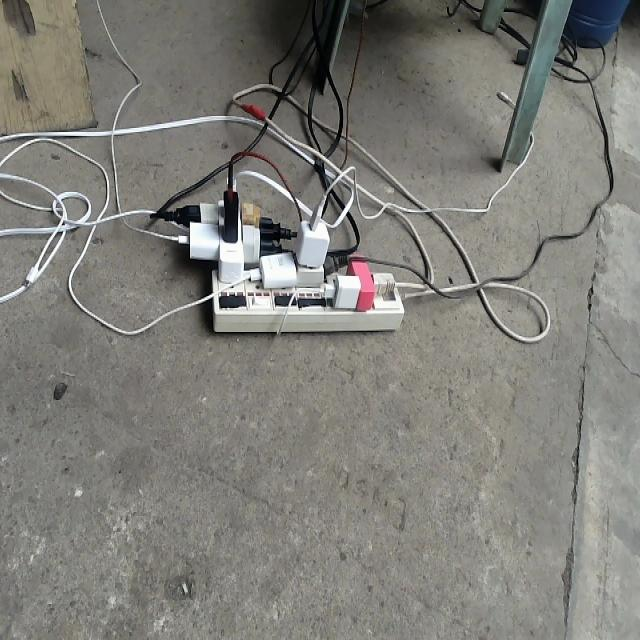-: (163, 175, 403, 329)
